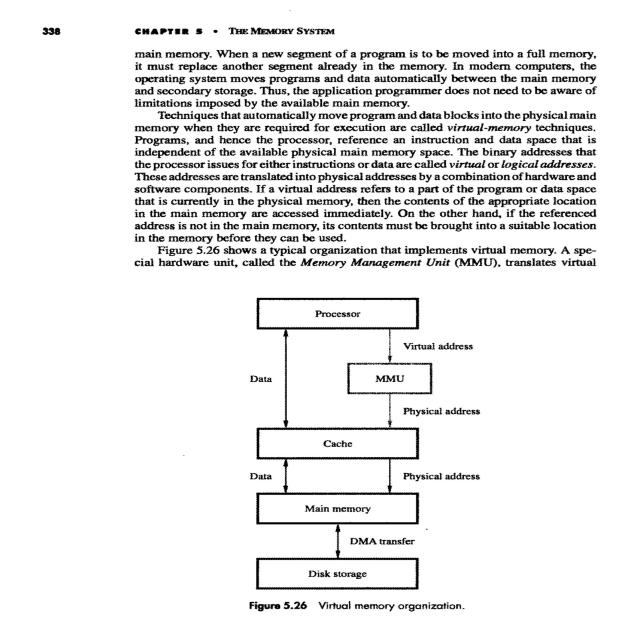diagram: (191, 283, 567, 640), (639, 253, 640, 271)
